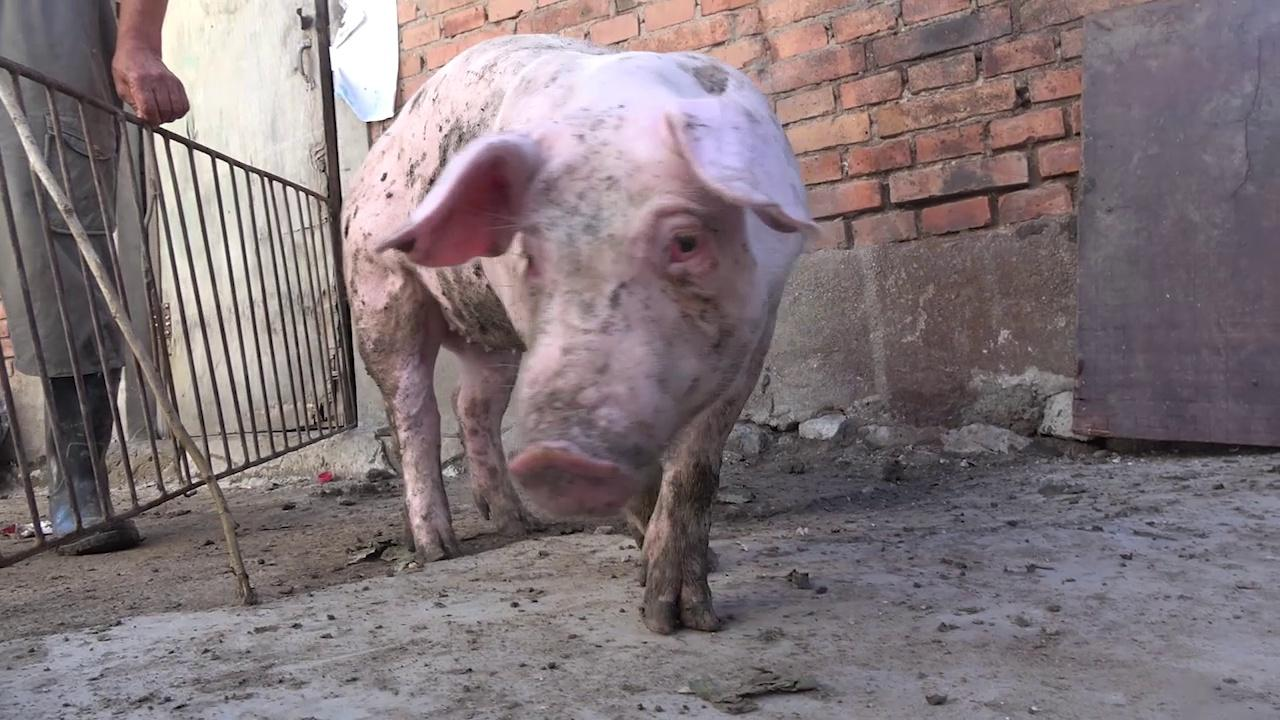Face: (390, 87, 820, 535)
